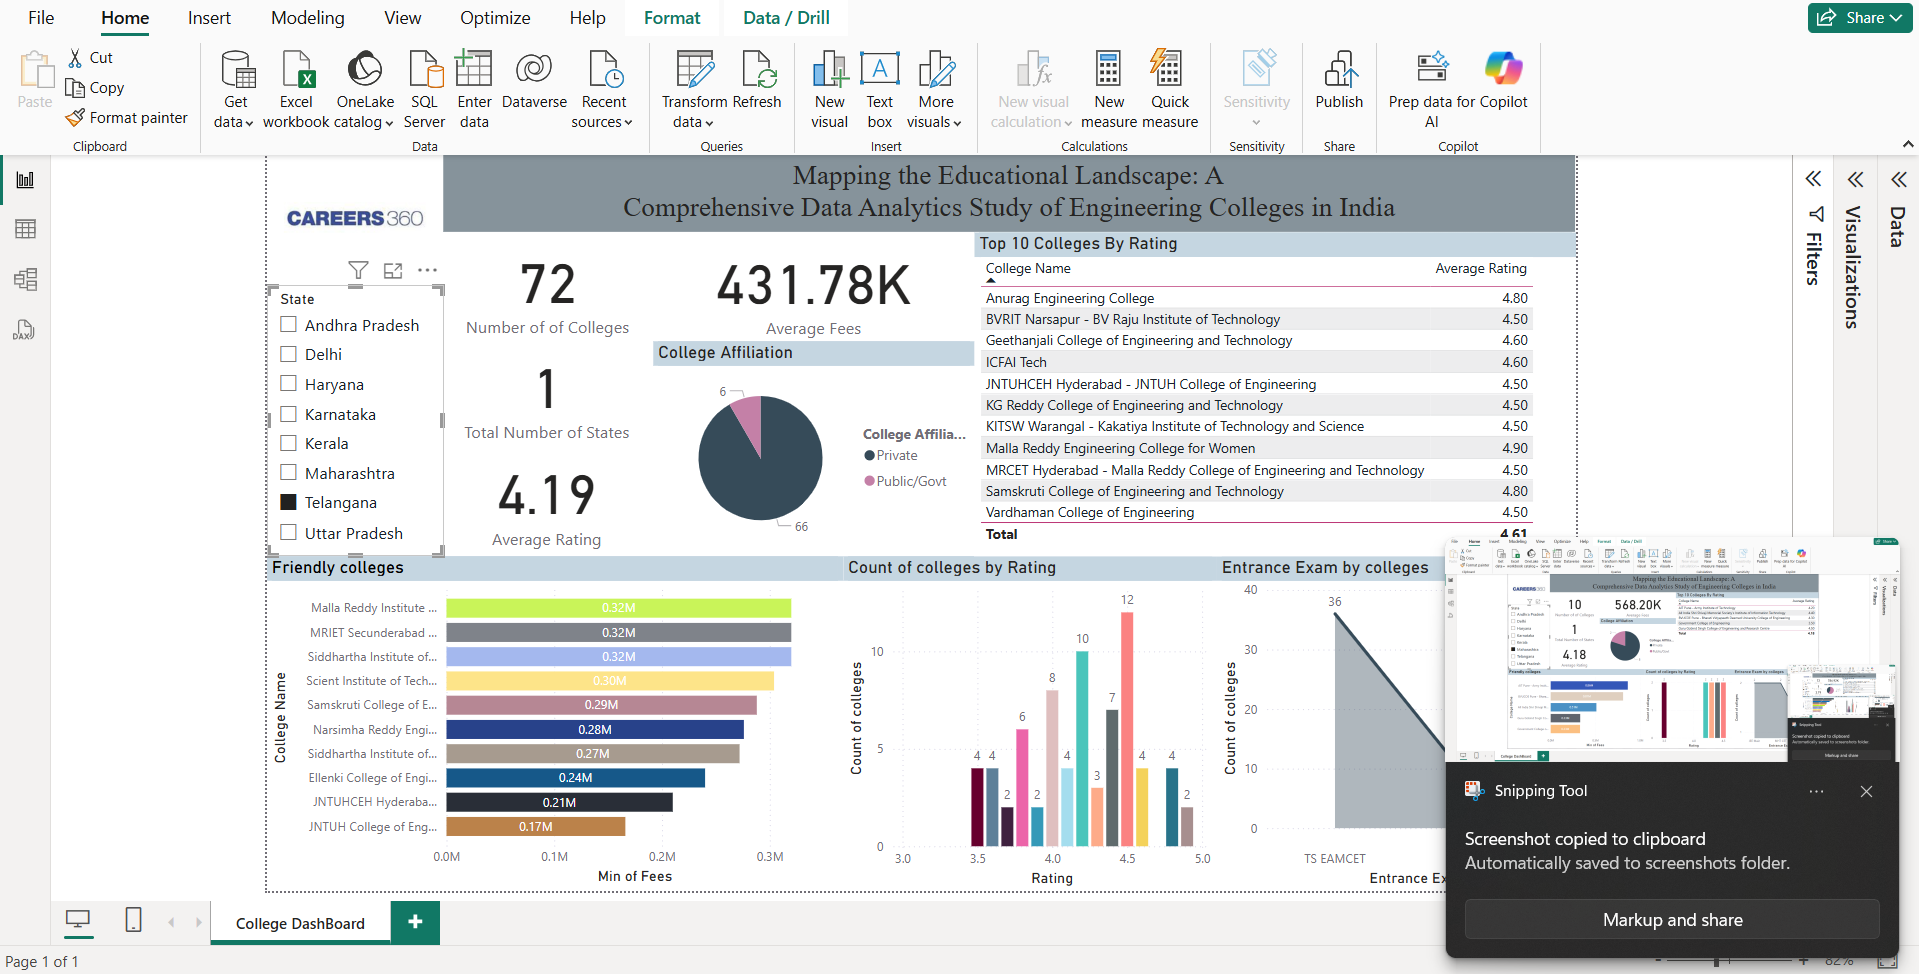

This screenshot's page, from the dashboard's own definition file:
{"tool":"powerbi","page":{"name":"College DashBoard","canvas":[1280,720],"ordinal":0},"visuals":[{"type":"card","fields":{"Values":["Sheet.Average_Fees"]},"box":[377.4,75.5,314.2,109.8],"z":0},{"type":"card","fields":{"Values":["College_data.Count_ccolleges"]},"box":[172.4,75.8,204.2,107.6],"z":1000},{"type":"card","fields":{"Values":["College_data.no_stares"]},"box":[172.9,182.5,203.1,100.2],"z":2000},{"type":"slicer","fields":{"Values":["College_data.State"]},"box":[0,127.6,172.9,264.8],"z":3000},{"type":"textbox","box":[172.9,0,1107.4,75.5],"z":4000},{"type":"pieChart","title":"College Affiliation","fields":{"Category":["College_data.College Affiliation"],"Y":["College_data.Number of of Colleges"]},"box":[377.4,182.5,314.2,209.9],"z":5000},{"type":"card","fields":{"Values":["College_data.Average Rating"]},"box":[172.9,282.7,203.1,108.4],"z":6000},{"type":"columnChart","title":"Count of colleges by Rating","fields":{"Category":["Sheet.Rating"],"Y":["CountNonNull(Sheet.College Name)"],"Series":["Sheet.Rating"]},"box":[563.7,392.5,365.6,327.7],"z":7000},{"type":"barChart","title":"Friendly colleges","fields":{"Category":["College_data.College Name"],"Series":["College_data.College Name"],"Y":["Min(College_data.Fees)"]},"box":[0,392.5,563.7,326.5],"z":8000},{"type":"stackedAreaChart","title":"Entrance Exam by colleges","fields":{"Category":["Sheet.Entrance Exam"],"Y":["Count(College_data.College Name)"]},"box":[929.4,392.5,351,327.7],"z":9000},{"type":"image","box":[0,0,172.4,122.3],"z":10000},{"type":"tableEx","title":"Top 10 Colleges By Rating","fields":{"Values":["College_data.College Name","College_data.Average Rating"]},"box":[691.6,75.5,588.7,317],"z":11000}]}

Visuals, with their boxes on the page's 1280x720 design canvas (x1, y1, x2, y2). These are canvas units, not pixel positions in the 1919x974 screenshot, which may show the page scaled, cropped or inside an application window:
card - Sheet.Average_Fees: 377 76 692 185
card - College_data.Count_ccolleges: 172 76 377 183
card - College_data.no_stares: 173 182 376 283
slicer - College_data.State: 0 128 173 392
textbox: 173 0 1280 76
"College Affiliation" pieChart: 377 182 692 392
card - College_data.Average Rating: 173 283 376 391
"Count of colleges by Rating" columnChart: 564 392 929 720
"Friendly colleges" barChart: 0 392 564 719
"Entrance Exam by colleges" stackedAreaChart: 929 392 1280 720
image: 0 0 172 122
"Top 10 Colleges By Rating" tableEx: 692 76 1280 392
